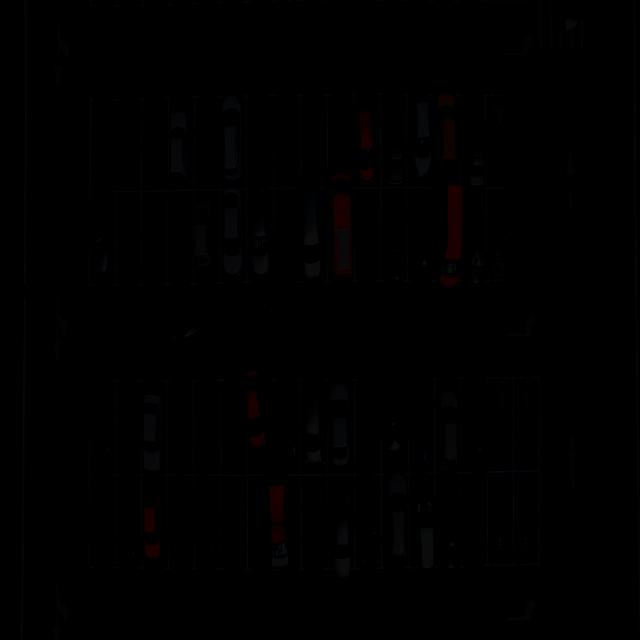empty: (298, 473, 331, 574), (138, 190, 171, 286), (192, 378, 224, 474), (86, 99, 118, 195), (192, 97, 224, 192), (139, 98, 171, 192), (218, 378, 248, 476), (113, 381, 144, 475), (168, 188, 198, 285), (114, 190, 144, 286), (352, 377, 382, 473), (271, 188, 302, 279), (351, 187, 381, 280), (328, 93, 358, 186), (247, 96, 277, 188), (462, 471, 491, 566), (514, 471, 543, 562), (219, 476, 247, 570), (486, 470, 514, 564), (298, 96, 326, 188), (515, 378, 542, 471), (248, 472, 273, 572), (489, 379, 515, 475), (273, 97, 301, 186)
occupied: (268, 476, 302, 577), (245, 373, 278, 473), (432, 183, 464, 281), (325, 474, 357, 572), (167, 95, 200, 190), (349, 472, 382, 566), (326, 376, 358, 472), (112, 98, 144, 192), (168, 378, 199, 473), (216, 187, 247, 282), (378, 474, 410, 566), (272, 376, 302, 474), (192, 478, 223, 572), (190, 189, 221, 283), (296, 186, 327, 280), (85, 375, 115, 472), (140, 382, 170, 477), (85, 191, 115, 286), (299, 376, 329, 471), (432, 376, 462, 470), (326, 185, 356, 278), (246, 186, 276, 278), (407, 92, 437, 184), (432, 470, 461, 565), (378, 377, 407, 472), (218, 96, 247, 190), (378, 186, 407, 280), (407, 376, 435, 472), (432, 94, 461, 185), (408, 186, 436, 280), (409, 470, 437, 564), (465, 379, 493, 473), (353, 96, 382, 186), (140, 473, 168, 565), (169, 477, 196, 571), (379, 97, 407, 187), (115, 473, 142, 564), (88, 474, 114, 564), (467, 188, 490, 285), (465, 96, 489, 186)
